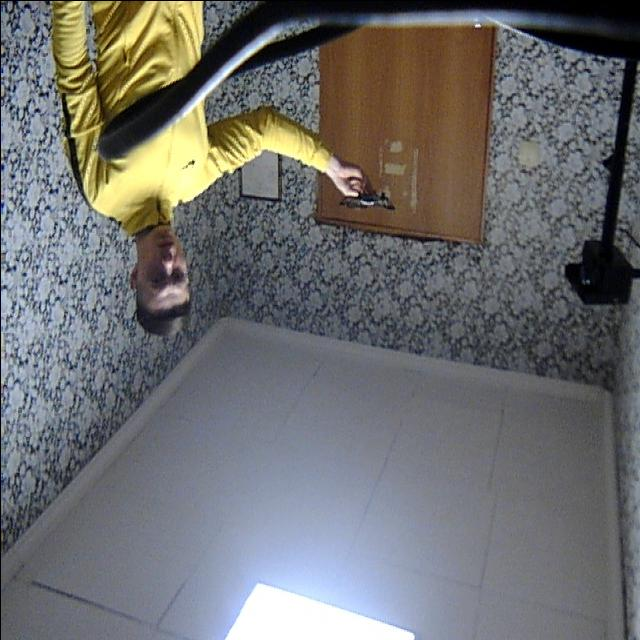drone: (334, 177, 400, 230)
